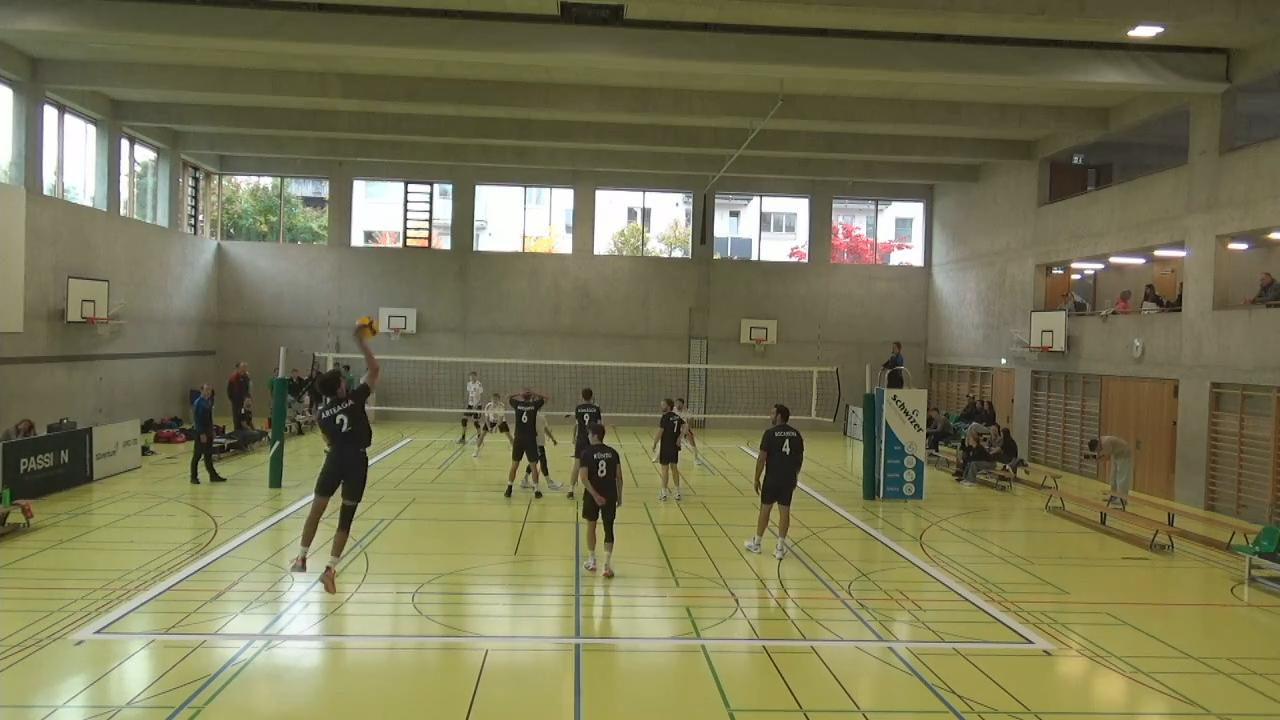Player: (746, 403, 803, 556), (578, 420, 626, 576), (501, 387, 551, 499), (471, 382, 519, 460), (654, 397, 688, 503), (526, 394, 562, 494), (569, 386, 605, 456), (464, 369, 490, 447), (674, 395, 699, 462)
Serve: (288, 321, 385, 599)
ball: (354, 316, 376, 337)
